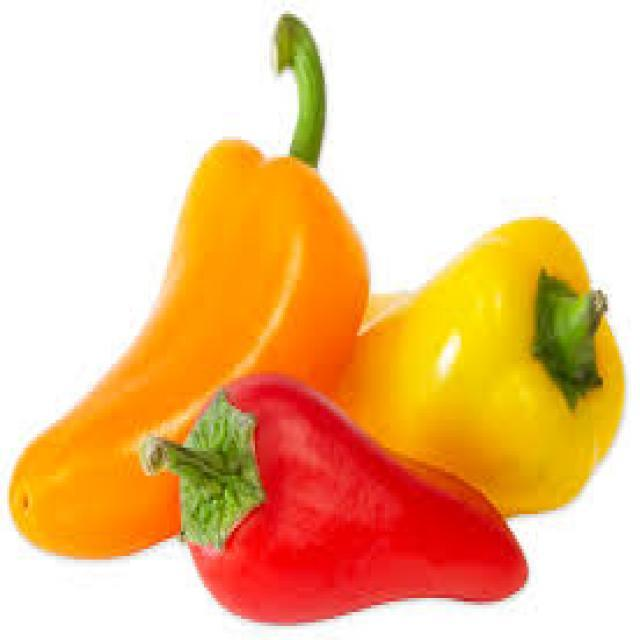Pepper: (7, 17, 371, 563), (135, 374, 530, 626), (332, 218, 629, 519)
